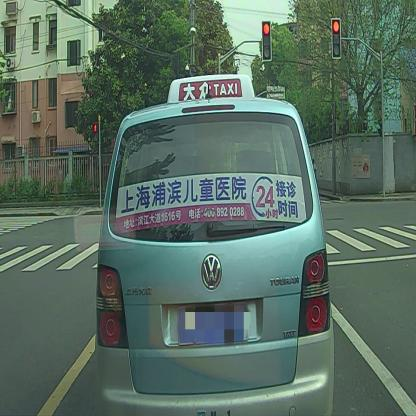Red Light: (262, 22, 272, 61), (331, 17, 333, 21)
